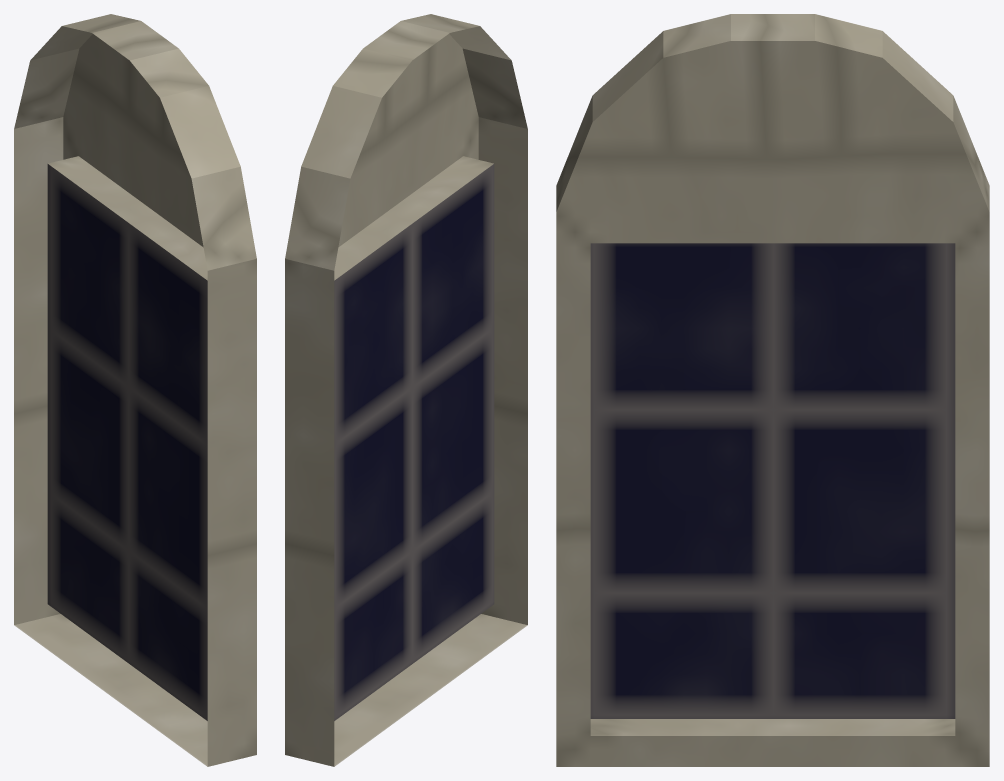
Rendered from Window_2.fbx.
3 views of the same model, side by side, from view 1: azimuth 30°, elevation 25°; view 2: azimuth 150°, elevation 25°; view 3: azimuth 270°, elevation 25° (orthographic). The views are drawn at different scales.
Parts seen in each view (by area): view 1: Window.001; view 2: Window.001; view 3: Window.001.
Part boxes in pixels (x1,y1,x2,y2): Window.001: (14, 14, 256, 766); Window.001: (285, 14, 527, 766); Window.001: (556, 14, 989, 766).
Bounding box in the file's own units: 20.78 × 262 × 141.
